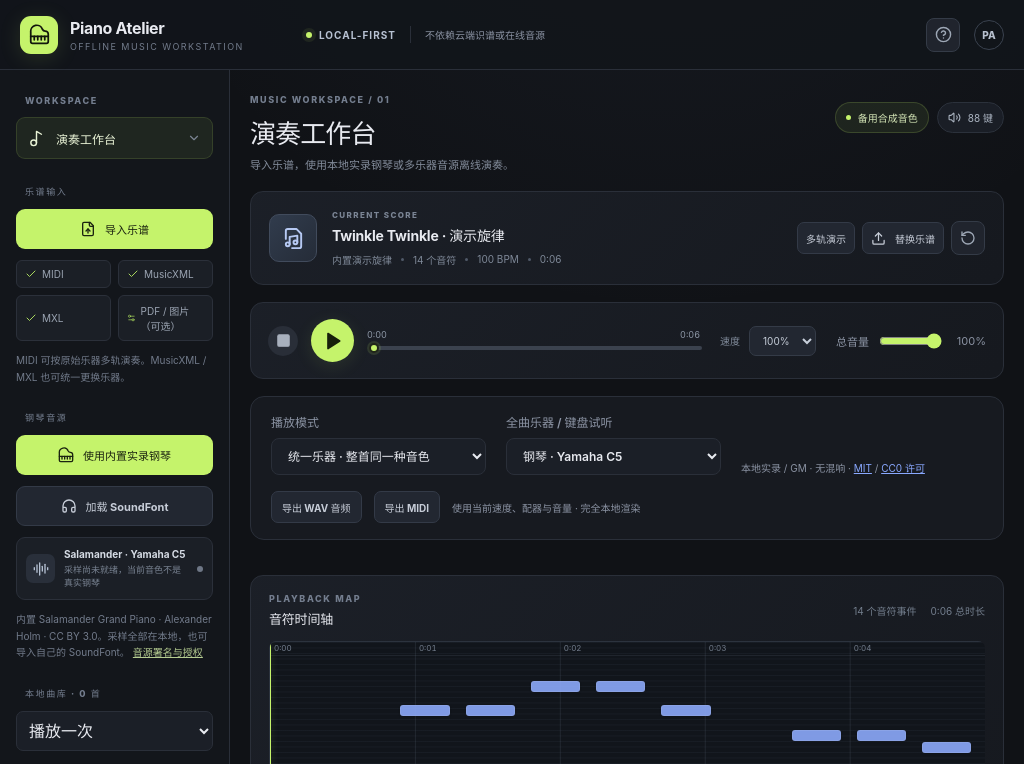
Scenario: offers both playback modes, prepares the offline bank, and applies the selected instrument
Click the button titled "播放".
click(332, 340)  # box [311,319,354,362]
Wait 620 ms
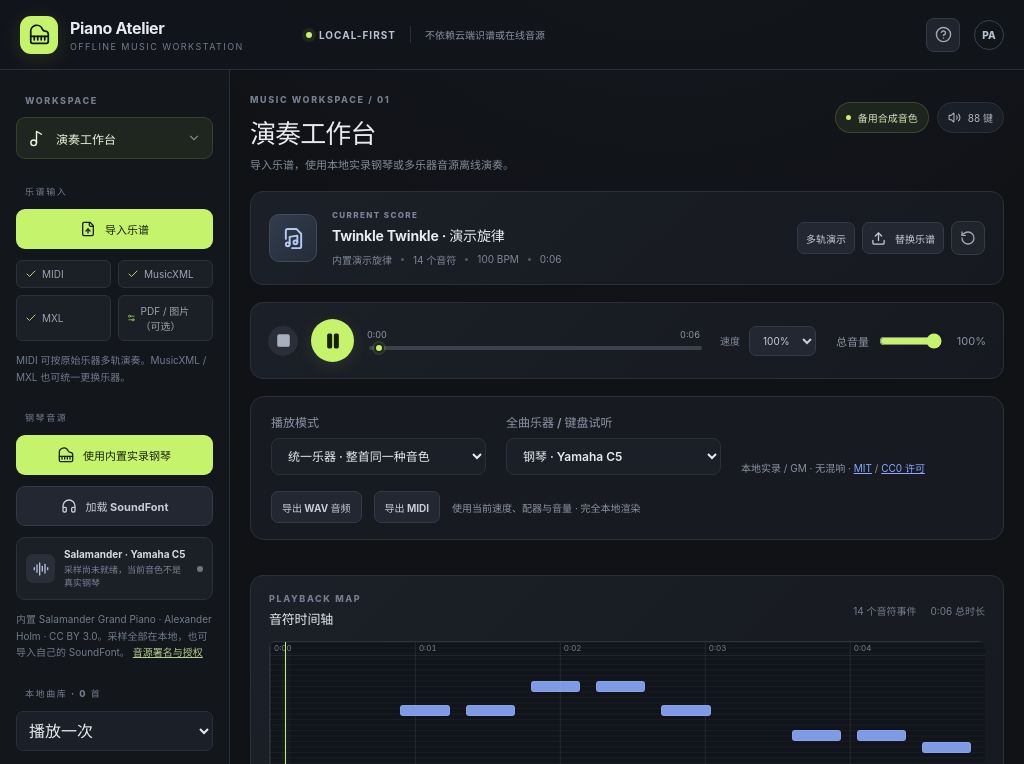
Click the button titled "停止".
click(283, 340)  # box [268,326,298,356]
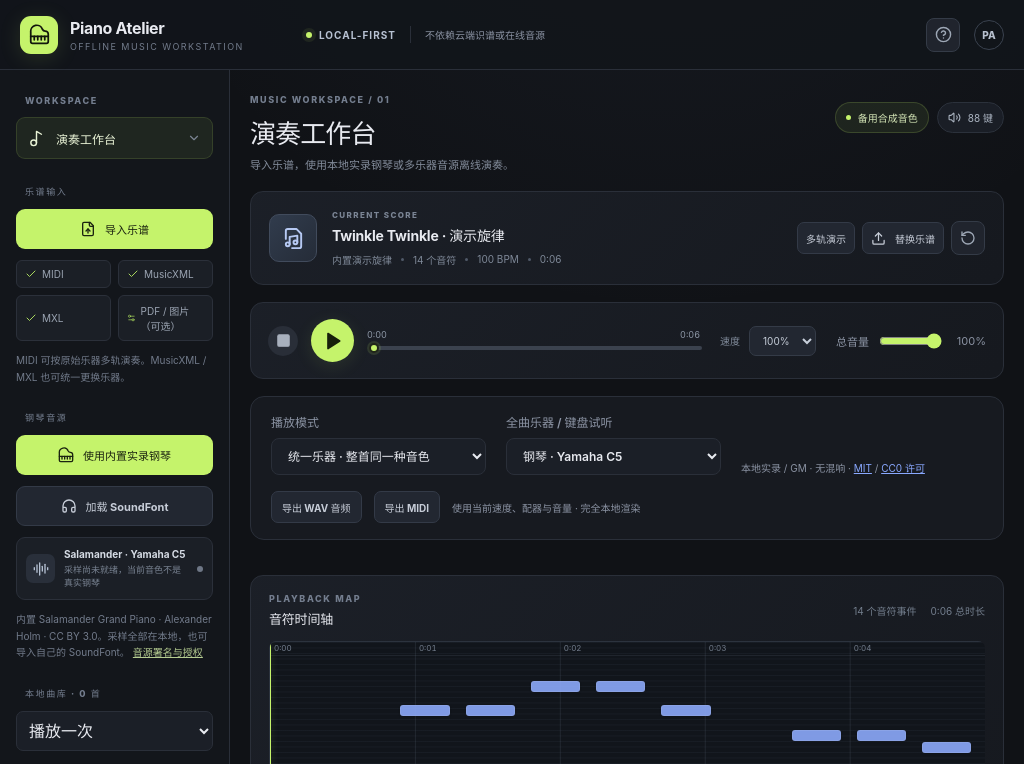
Select "指弹电贝斯 · GM" in the dropdown named "演奏乐器" at (614, 456), box [506,438,721,475]
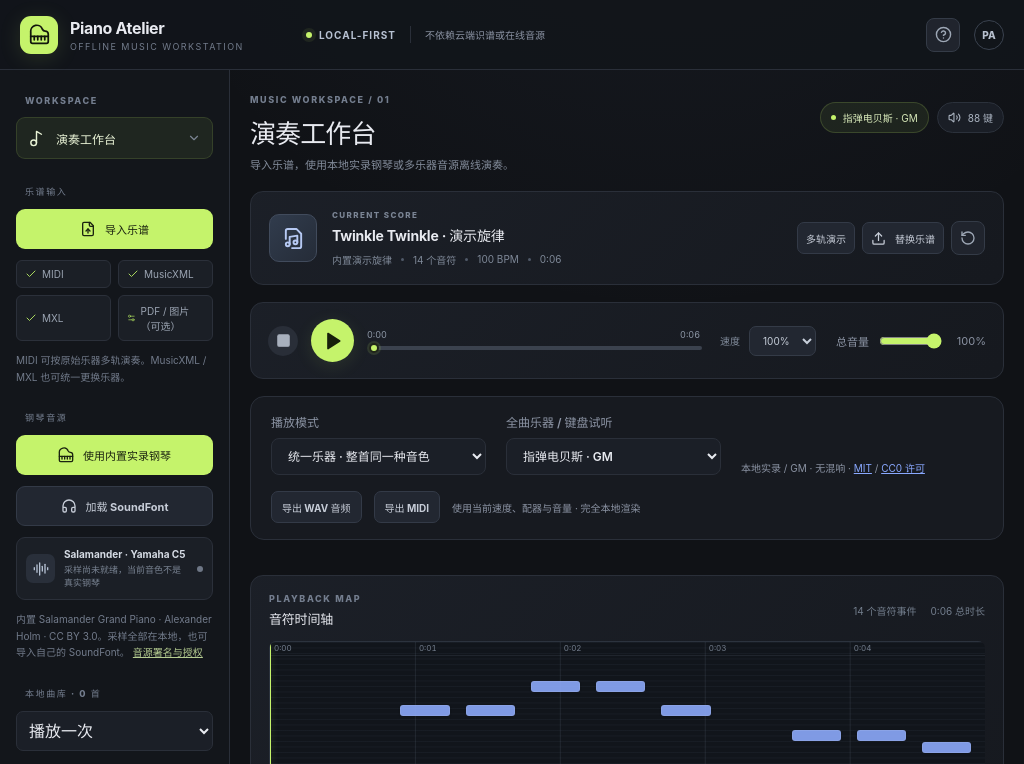
Result: the slider named "播放进度" holds "0" at [369,346,702,350]
Select "多轨演奏 · 匹配 MIDI 原始乐器" in the dropdown named "播放模式" at (378, 456), box [271,438,486,475]
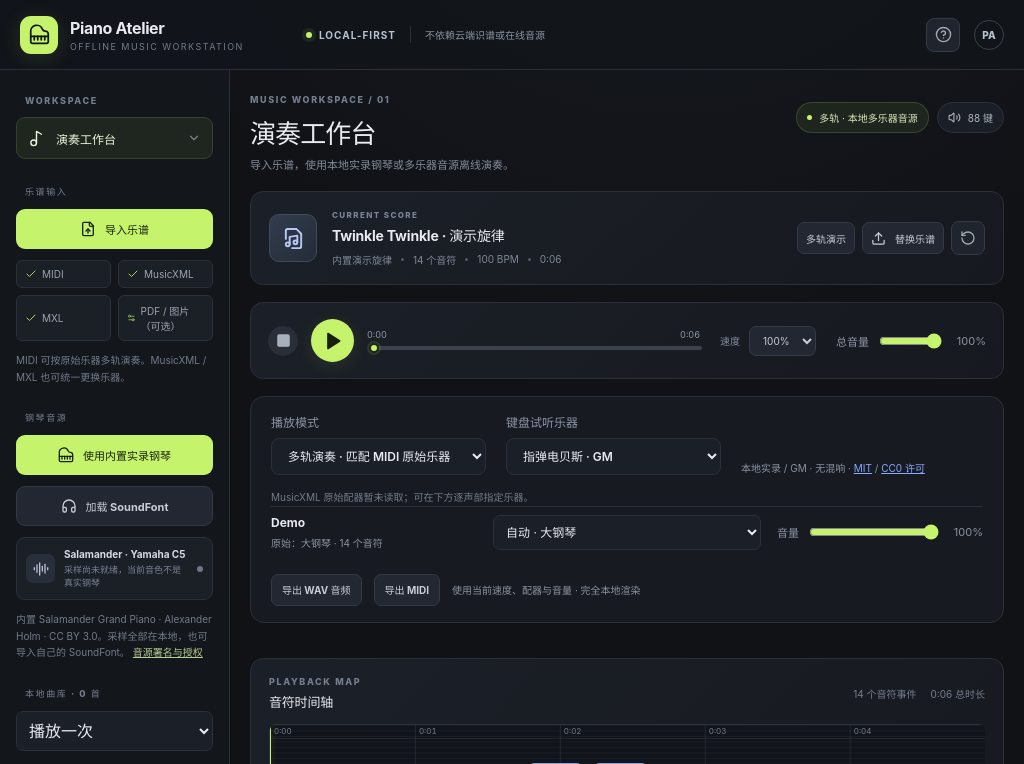
Result: the text "MusicXML 原始配器暂未读取" is shown at [271,491,533,503]
